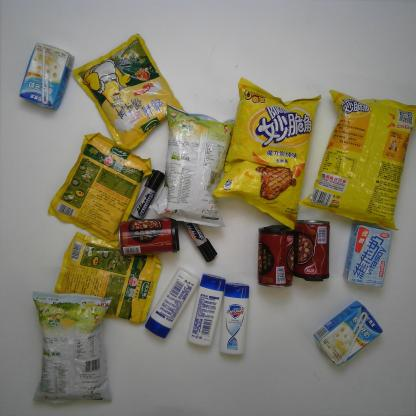Canned Food: (290, 218, 331, 282), (117, 217, 180, 258), (256, 224, 296, 288)
Milk: (313, 300, 384, 368), (18, 42, 75, 110), (342, 222, 392, 288)
Personal Hygiene: (143, 266, 200, 340), (186, 273, 227, 347), (219, 282, 251, 356)
Puffed Food: (211, 76, 324, 230), (298, 89, 416, 231), (147, 102, 236, 228), (30, 288, 114, 404)
Seasoner: (71, 32, 186, 151), (47, 131, 154, 249), (54, 231, 164, 324)
Stationery: (129, 168, 166, 220), (182, 222, 218, 263)
